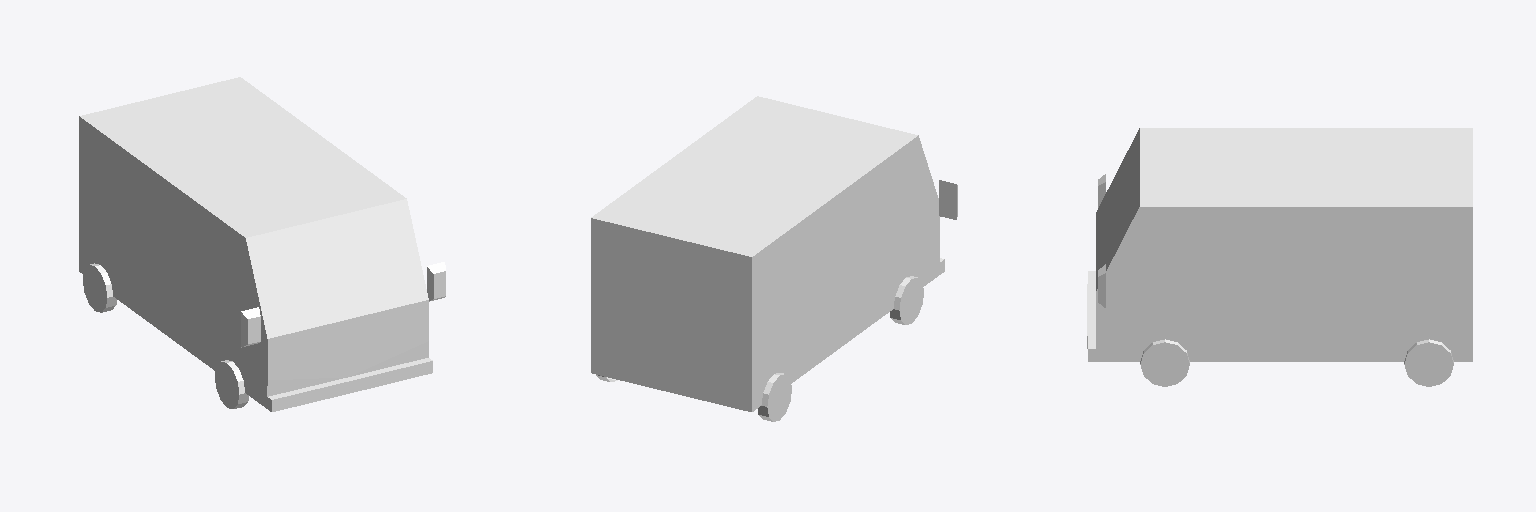
The model's file is Van.obj.
3 renders of one model, left to right at view 1: azimuth 30°, elevation 25°; view 2: azimuth 150°, elevation 25°; view 3: azimuth 270°, elevation 25°, orthographic.
Parts seen in each view (by area): view 1: van_mesh_Mesh.004; view 2: van_mesh_Mesh.004; view 3: van_mesh_Mesh.004.
Part boxes in pixels (left/top/right/bottom): van_mesh_Mesh.004: left=79, top=77, right=445, bottom=411; van_mesh_Mesh.004: left=591, top=96, right=957, bottom=421; van_mesh_Mesh.004: left=1087, top=128, right=1472, bottom=386.
Size of the model in its own units: 3.44 by 2.86 by 5.62.